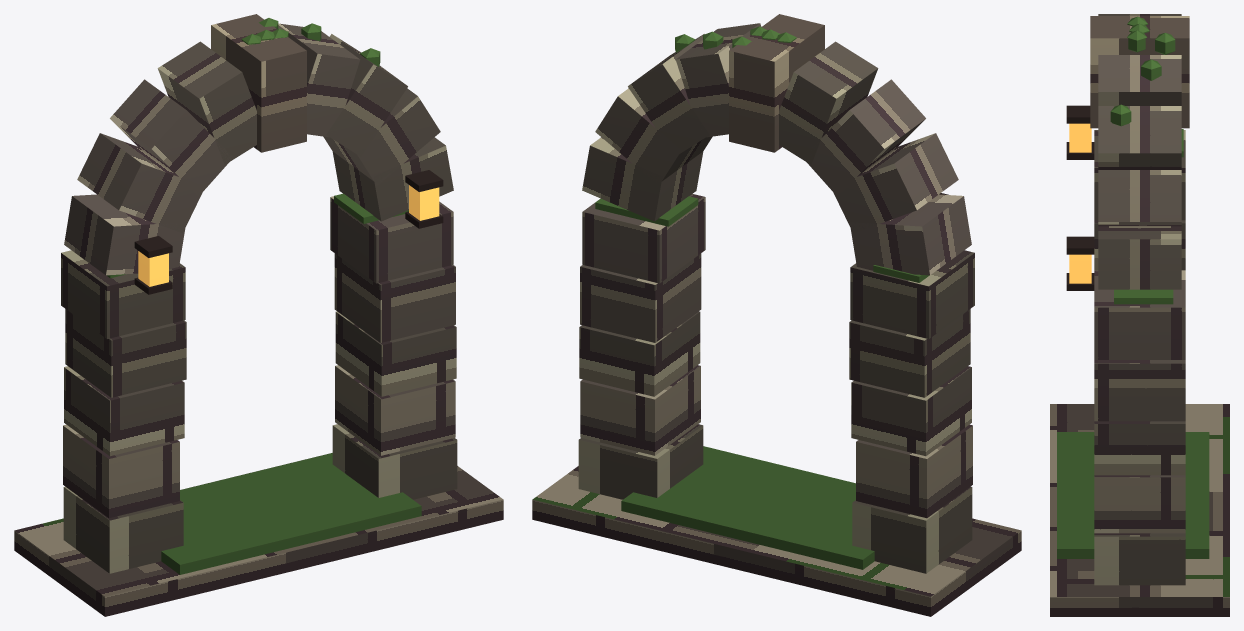
The model's file is portal_arch.glb.
3 renders of one model, left to right at view 1: azimuth 30°, elevation 25°; view 2: azimuth 150°, elevation 25°; view 3: azimuth 270°, elevation 25°, orthographic.
Parts seen in each view (by area): view 1: portal_arch; view 2: portal_arch; view 3: portal_arch.
Boxes of the visible parts, box(x1,y1,x2,y2) form: portal_arch: box(14, 14, 503, 616); portal_arch: box(532, 14, 1021, 616); portal_arch: box(1050, 14, 1229, 616).
Size of the model in its own units: 3.3 by 3.99 by 1.3.
3 materials, 1 textured.
